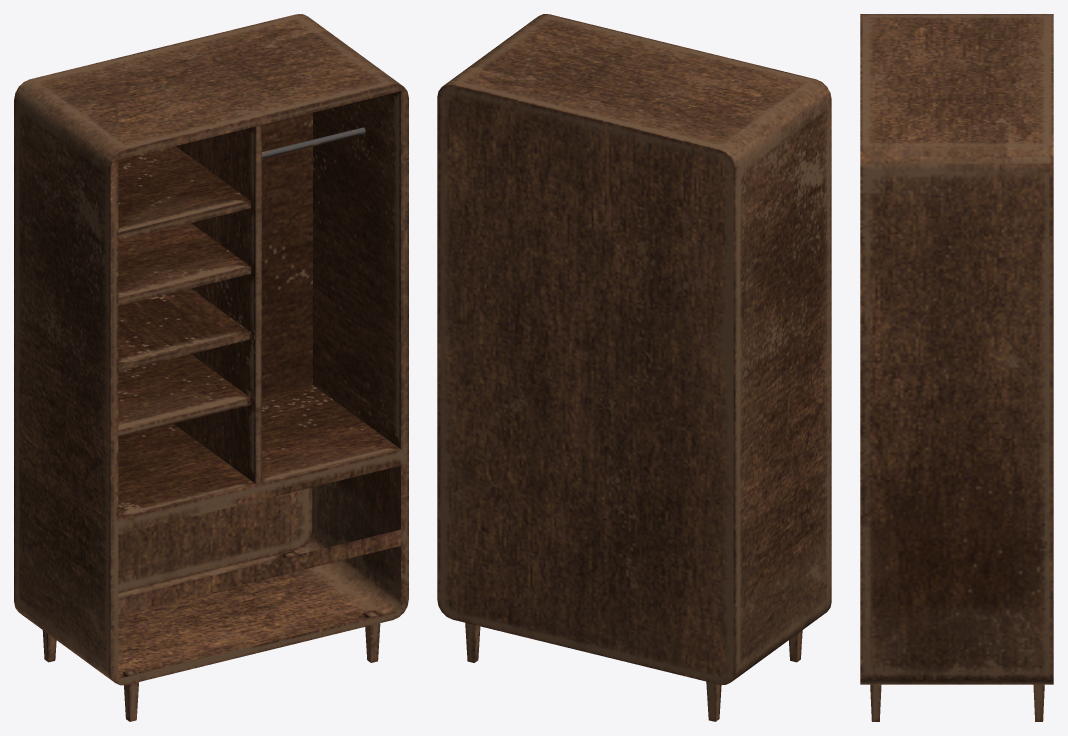
Rendered from WardrobeBase.fbx.
3 views of the same model, side by side, from view 1: azimuth 30°, elevation 25°; view 2: azimuth 150°, elevation 25°; view 3: azimuth 270°, elevation 25° (orthographic).
Parts seen in each view (by area): view 1: WardrobeBase; view 2: WardrobeBase; view 3: WardrobeBase.
Part boxes in pixels (left/top/right/bottom): WardrobeBase: left=14, top=14, right=408, bottom=721; WardrobeBase: left=437, top=14, right=831, bottom=721; WardrobeBase: left=860, top=14, right=1053, bottom=721.
Size of the model in its own units: 53.32 by 95.17 by 176.
